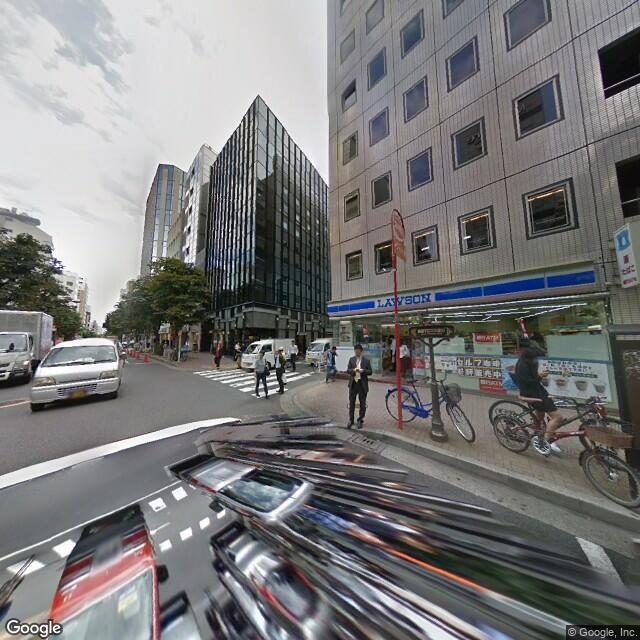lawson: (325, 260, 599, 321), (610, 222, 634, 258)
